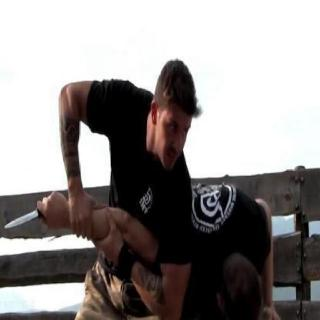knife: (1, 188, 58, 234)
